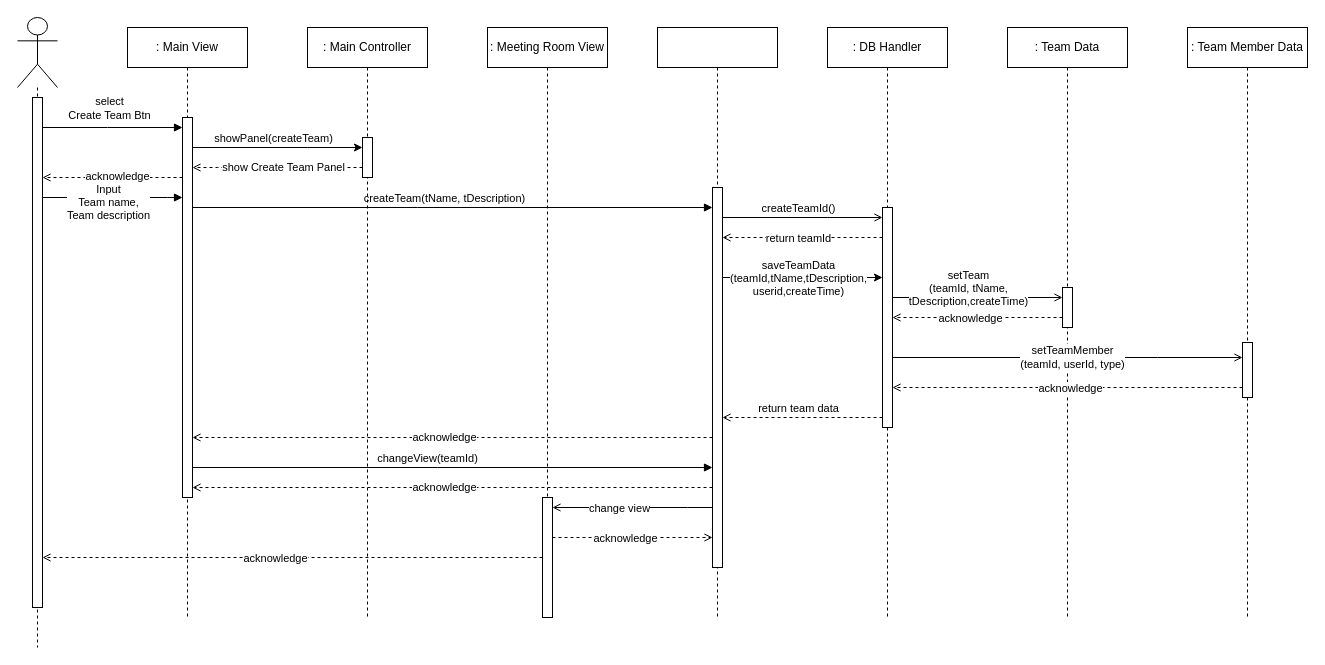
Some shapes in this 1325 by 665 pixel diagram are drawn without their labels. The shapes that lost their labels are listed below. From the top down, each one's box as (x1, y1, x2, y2) in pixels, then its label:
(16, 16, 58, 648): User
(656, 26, 778, 618): : Team Controller
